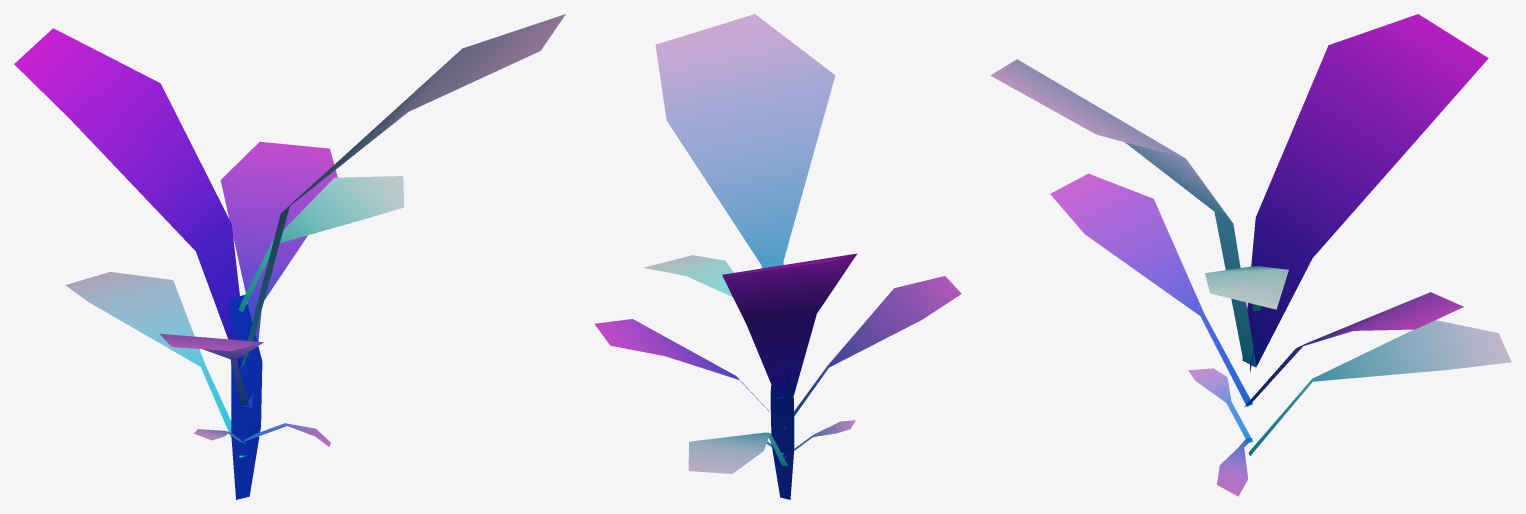
The model's file is Curbside_Weeds_ujzjfexja_Mid_ujzjfexja_VarG_LOD1.fbx.
3 views of the same model, side by side, from view 1: azimuth 30°, elevation 25°; view 2: azimuth 150°, elevation 25°; view 3: azimuth 270°, elevation 25° (orthographic). The views are drawn at different scales.
Parts seen in each view (by area): view 1: _cufg_VarG_LOD2; view 2: _cufg_VarG_LOD2; view 3: _cufg_VarG_LOD2.
Boxes of the visible parts, <box> form: _cufg_VarG_LOD2: <box>14,14,565,499</box>; _cufg_VarG_LOD2: <box>594,14,961,499</box>; _cufg_VarG_LOD2: <box>990,14,1511,496</box>.
Size of the model in its own units: 6.17 by 7.42 by 6.95.
